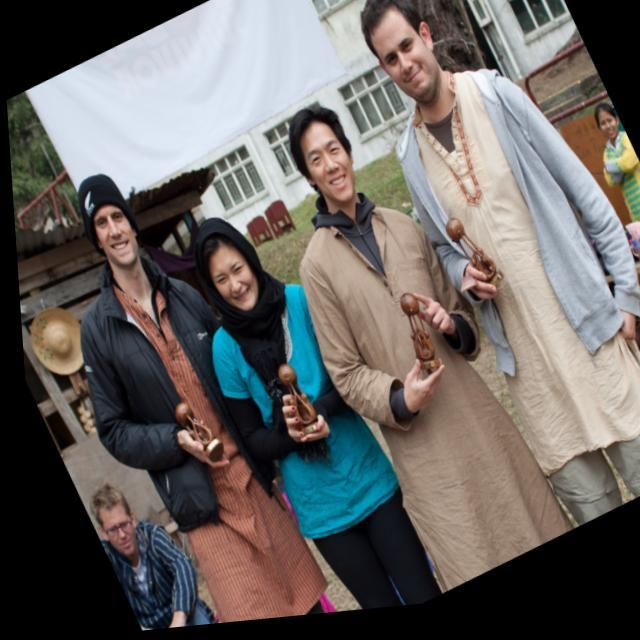Helmet: (276, 99, 365, 215), (352, 0, 444, 110)
